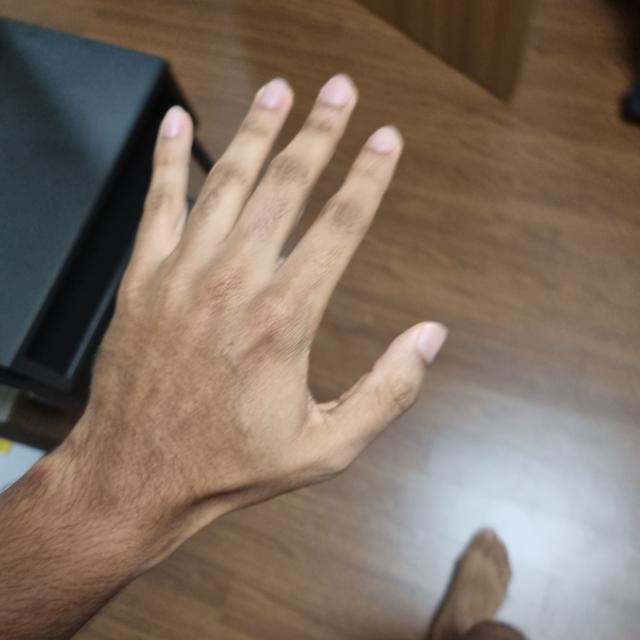Paper: (80, 83, 439, 513)
